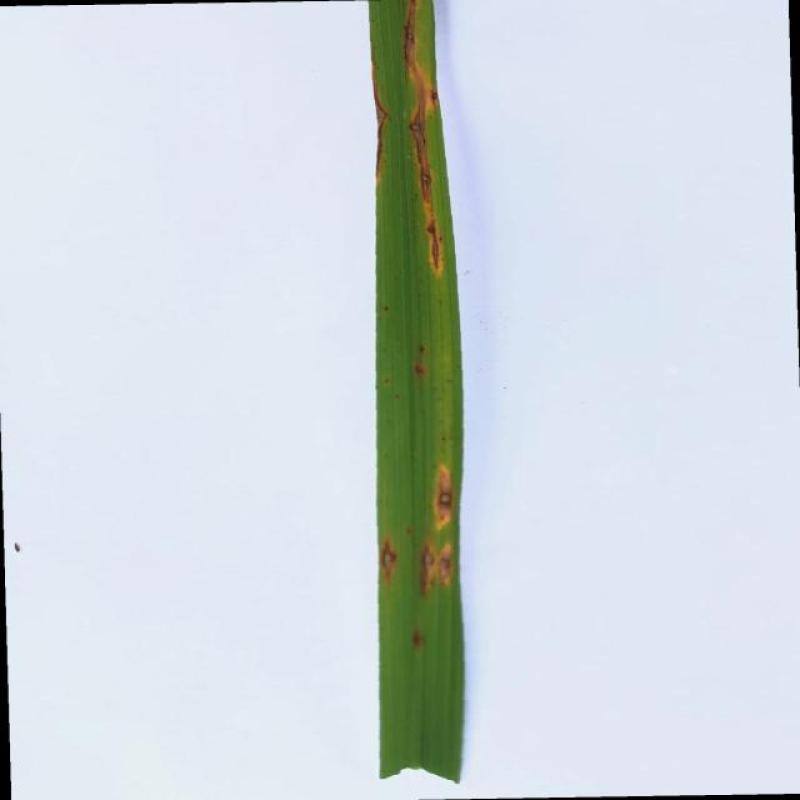Leaf_Blast: (408, 90, 434, 205), (401, 0, 425, 84), (372, 78, 390, 178), (433, 465, 455, 533), (426, 212, 446, 276), (436, 540, 455, 584), (420, 544, 436, 592), (382, 540, 398, 585)
